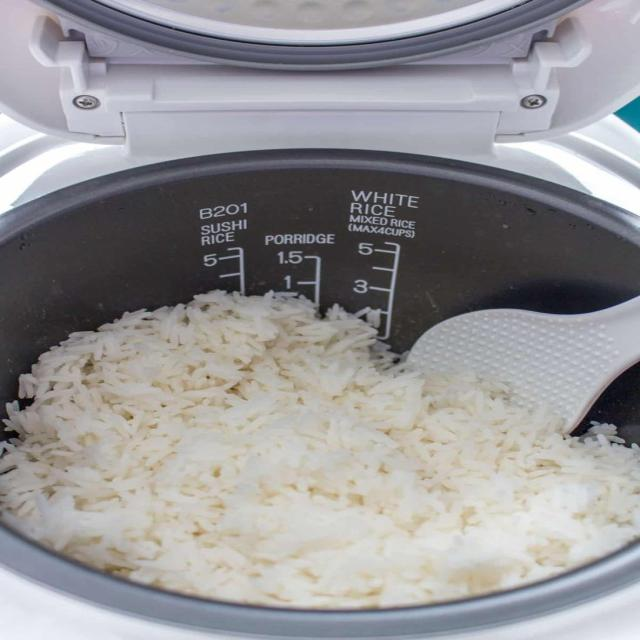rice: (0, 292, 639, 607)
